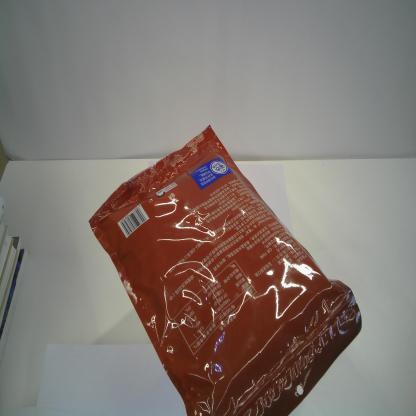Dried Food: (86, 125, 363, 416)
